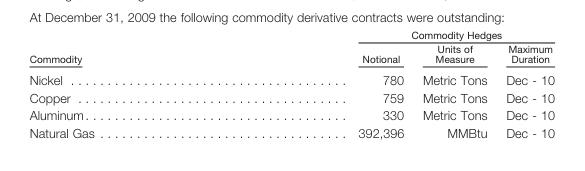table: (28, 28, 554, 139)
table column: (28, 28, 225, 139), (225, 28, 412, 139), (412, 28, 495, 139), (495, 28, 554, 139)
table column header: (28, 28, 554, 53)
table row: (28, 68, 554, 88), (28, 105, 554, 123), (28, 88, 554, 105), (28, 123, 554, 139), (28, 53, 554, 68), (28, 28, 554, 41), (28, 41, 554, 53)
table spanning cell: (225, 28, 554, 41)
